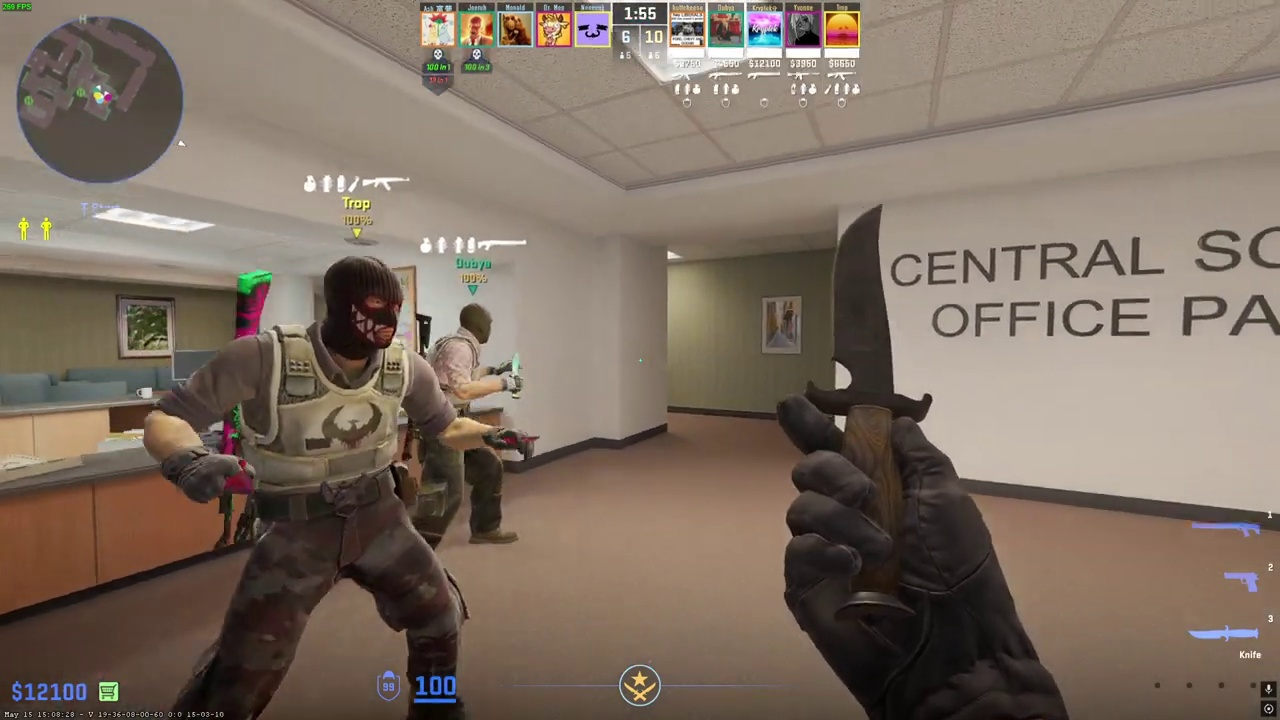Terrorist: (172, 255, 453, 720), (413, 303, 521, 552)
